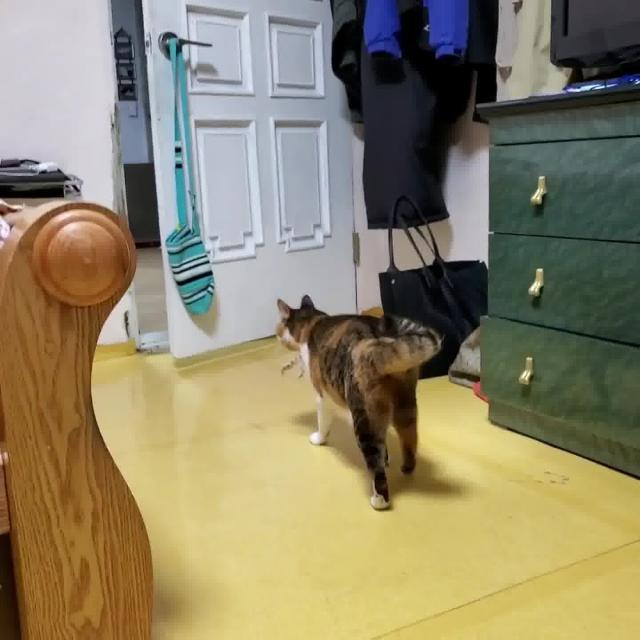cat: (274, 292, 440, 510)
